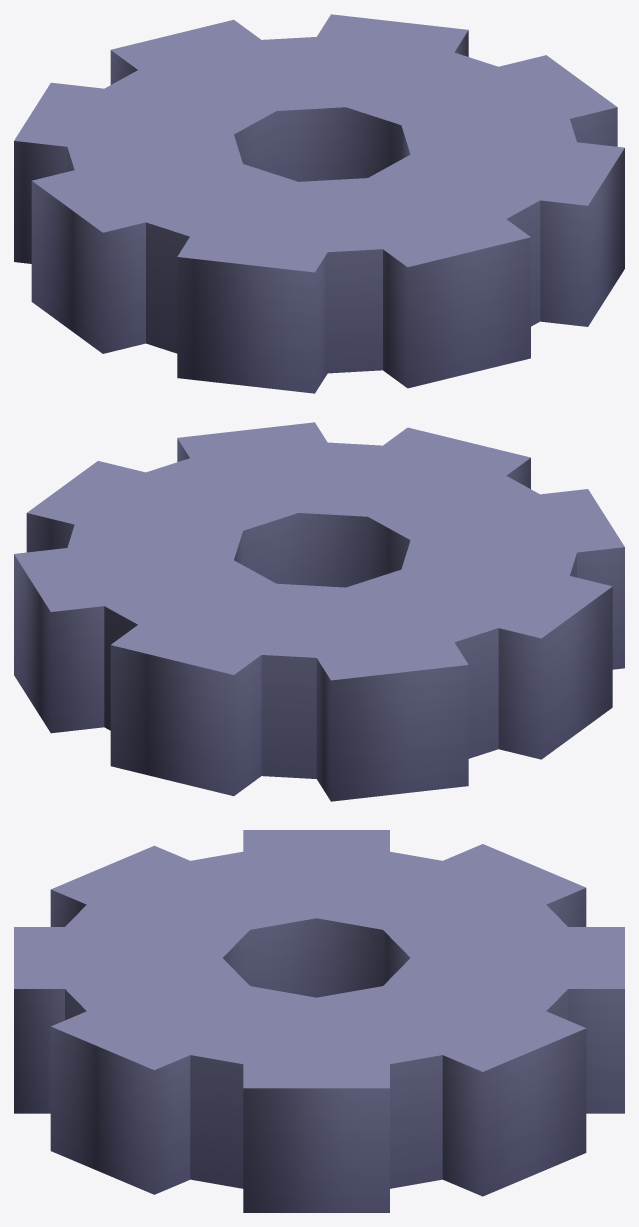
File: kenney-factory-cog-c.glb
3 renders of one model, top to bottom at view 1: azimuth 30°, elevation 25°; view 2: azimuth 150°, elevation 25°; view 3: azimuth 270°, elevation 25°, orthographic. The views are drawn at different scales.
Visible parts, largest first — view 1: cog-c; view 2: cog-c; view 3: cog-c.
Boxes of the visible parts, left/top/right/bottom form: cog-c: left=14, top=14, right=624, bottom=393; cog-c: left=14, top=422, right=624, bottom=801; cog-c: left=14, top=830, right=624, bottom=1212.
Size of the model in its own units: 1 by 0.225 by 1.
Materials: 1 (1 with a texture image).
